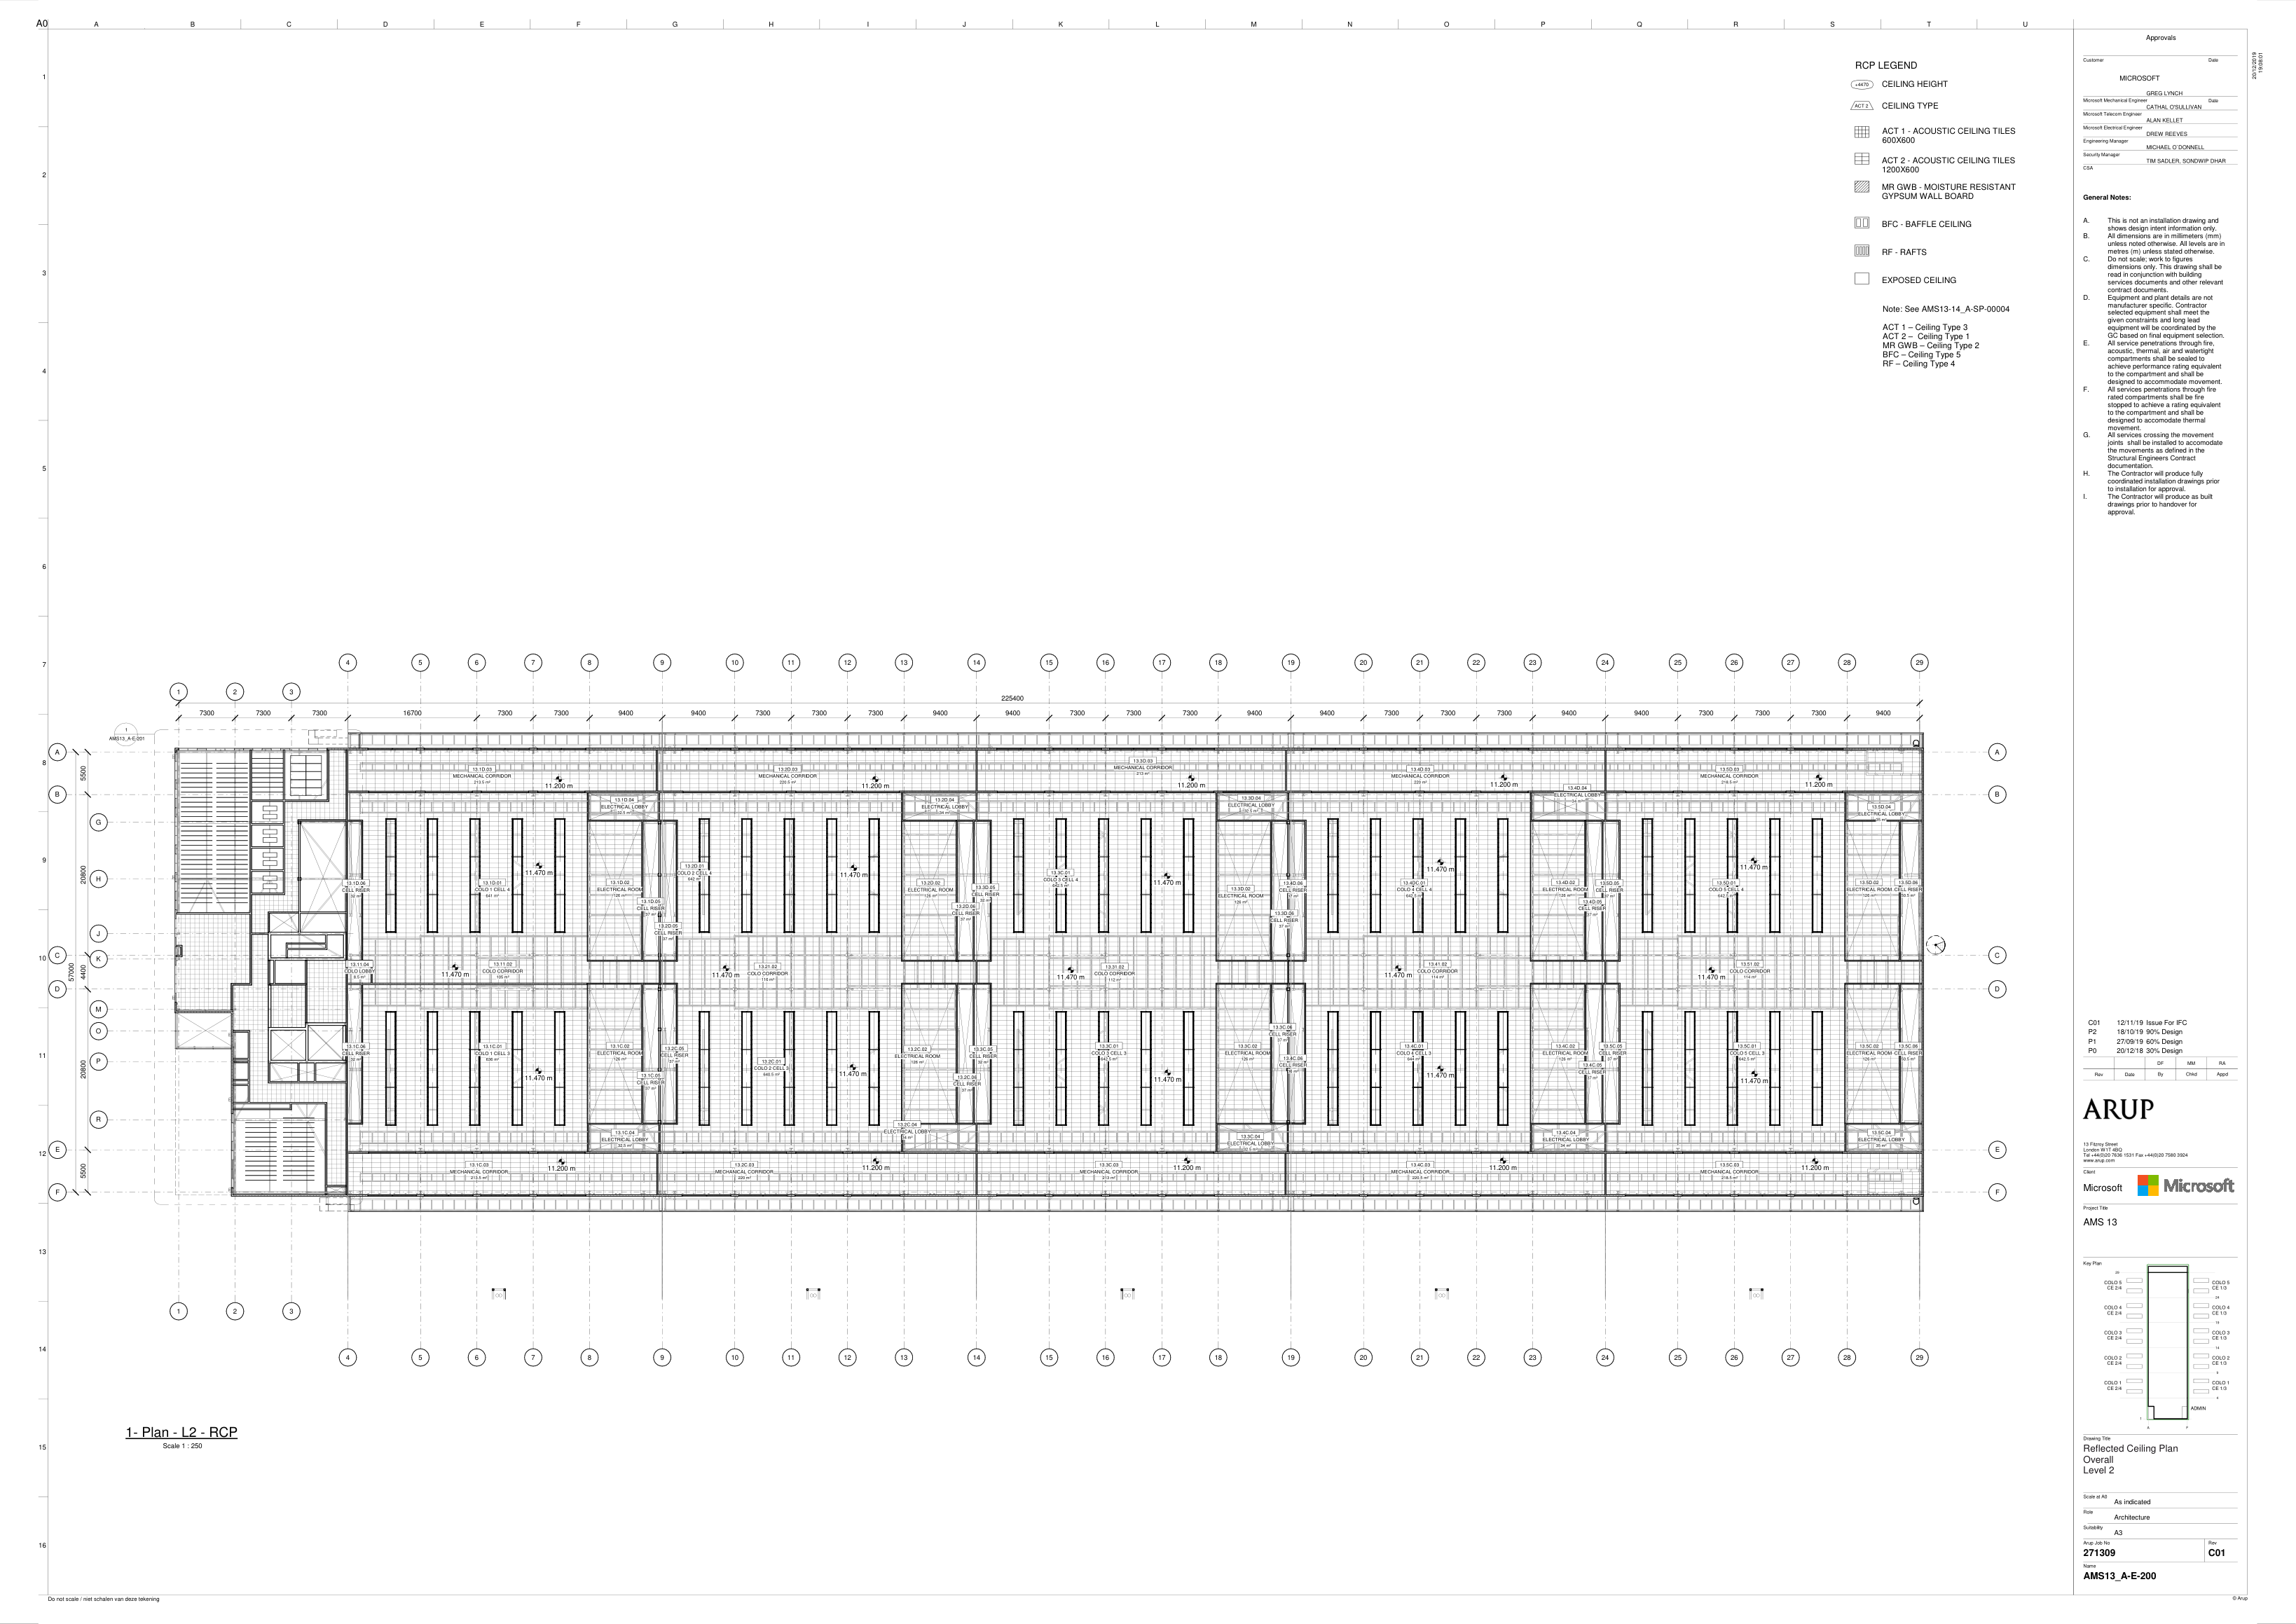Legend: (1849, 58, 2016, 372)
